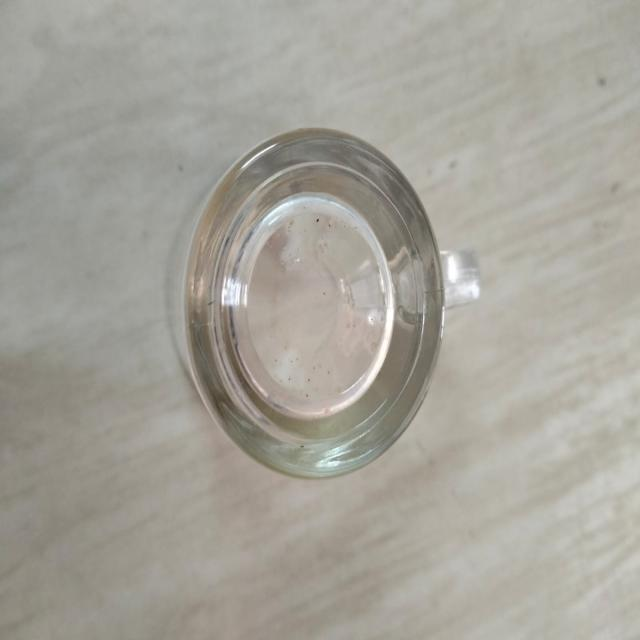glass-VX4N: (183, 126, 478, 478)
